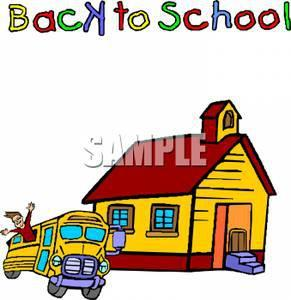car: (2, 211, 129, 297)
person: (1, 201, 37, 242)
